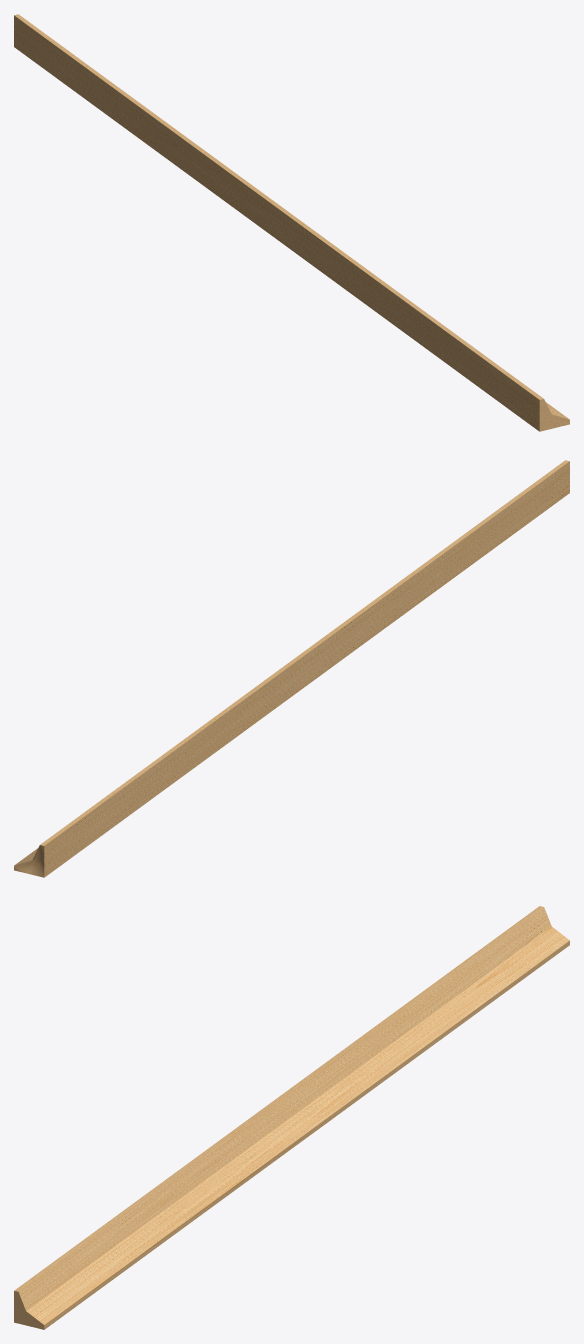
File: corner_cover_united.fbx
3 renders of one model, top to bottom at view 1: azimuth 30°, elevation 25°; view 2: azimuth 150°, elevation 25°; view 3: azimuth 330°, elevation 25°, orthographic.
Visible parts, largest first — view 1: Part; view 2: Part; view 3: Part.
Part boxes in pixels (x1=…): Part: x1=14, y1=14, x2=569, y2=431; Part: x1=14, y1=460, x2=569, y2=877; Part: x1=14, y1=906, x2=569, y2=1329.
Size of the model in its own units: 5 by 5 by 150.
